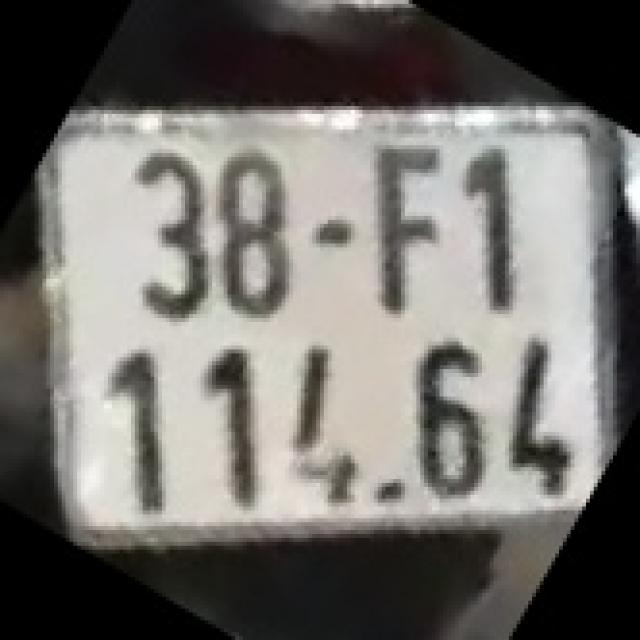1: (100, 346, 178, 518), (201, 346, 266, 510), (462, 145, 520, 314)
3: (131, 149, 212, 322)
4: (289, 342, 363, 510), (505, 338, 575, 494)
6: (412, 338, 486, 498)
8: (216, 145, 293, 318)
F: (370, 141, 443, 314)
